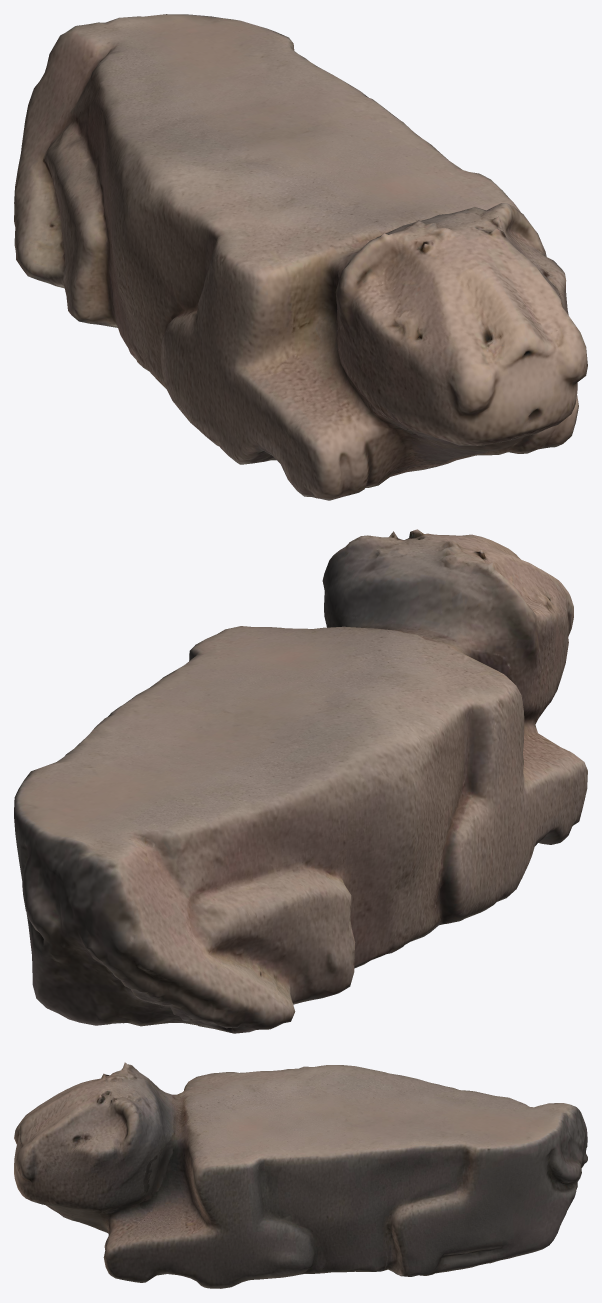
File: losa_felino.glb
3 views of the same model, one above another, from view 1: azimuth 30°, elevation 25°; view 2: azimuth 150°, elevation 25°; view 3: azimuth 270°, elevation 25° (orthographic). The views are drawn at different scales.
Visible parts, largest first — view 1: Mesh1.0; view 2: Mesh1.0; view 3: Mesh1.0.
Part boxes in pixels (x1,y1,x2,y2): Mesh1.0: (14, 14, 587, 500); Mesh1.0: (14, 529, 587, 1033); Mesh1.0: (14, 1062, 587, 1288).
Bounding box in the file's own units: 0.5934 × 0.5 × 1.49.
1 material, 1 textured.
